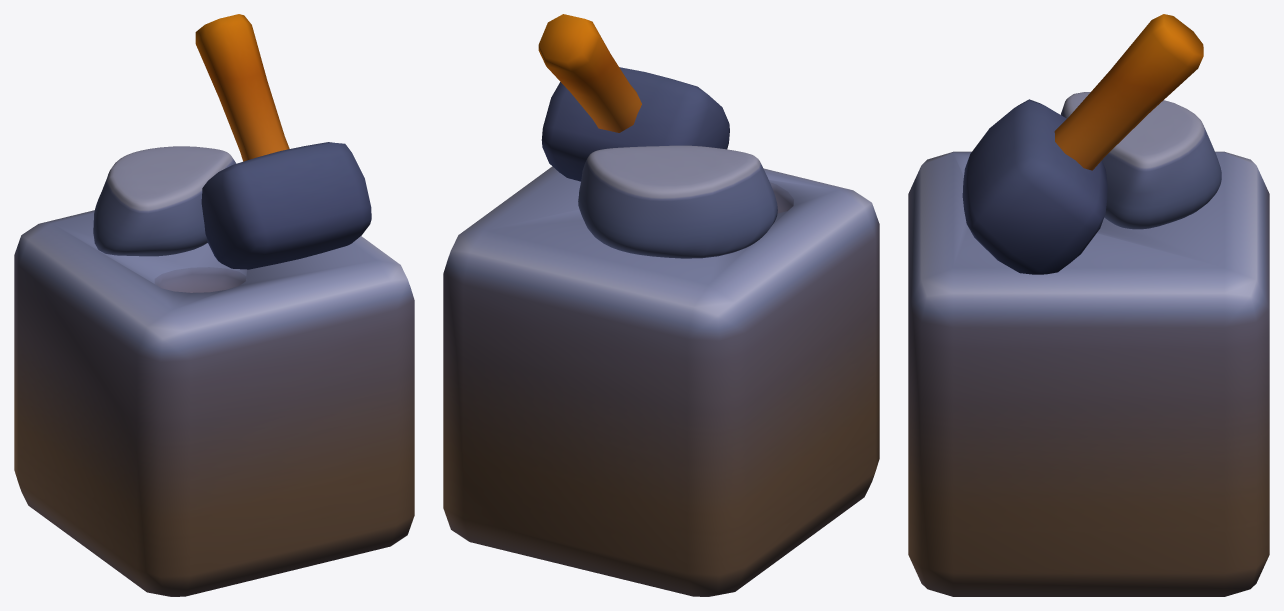
File: block_rock_hammer (2).fbx
The picture shows the model from 3 angles, left to right: view 1: azimuth 30°, elevation 25°; view 2: azimuth 150°, elevation 25°; view 3: azimuth 270°, elevation 25°; orthographic projection. The views are drawn at different scales.
Parts seen in each view (by area): view 1: block_rock.001; view 2: block_rock.001; view 3: block_rock.001.
Boxes of the visible parts, left/top/right/bottom form: block_rock.001: left=14, top=14, right=414, bottom=596; block_rock.001: left=443, top=14, right=879, bottom=596; block_rock.001: left=908, top=14, right=1269, bottom=596.
Size of the model in its own units: 200 by 333 by 200.
